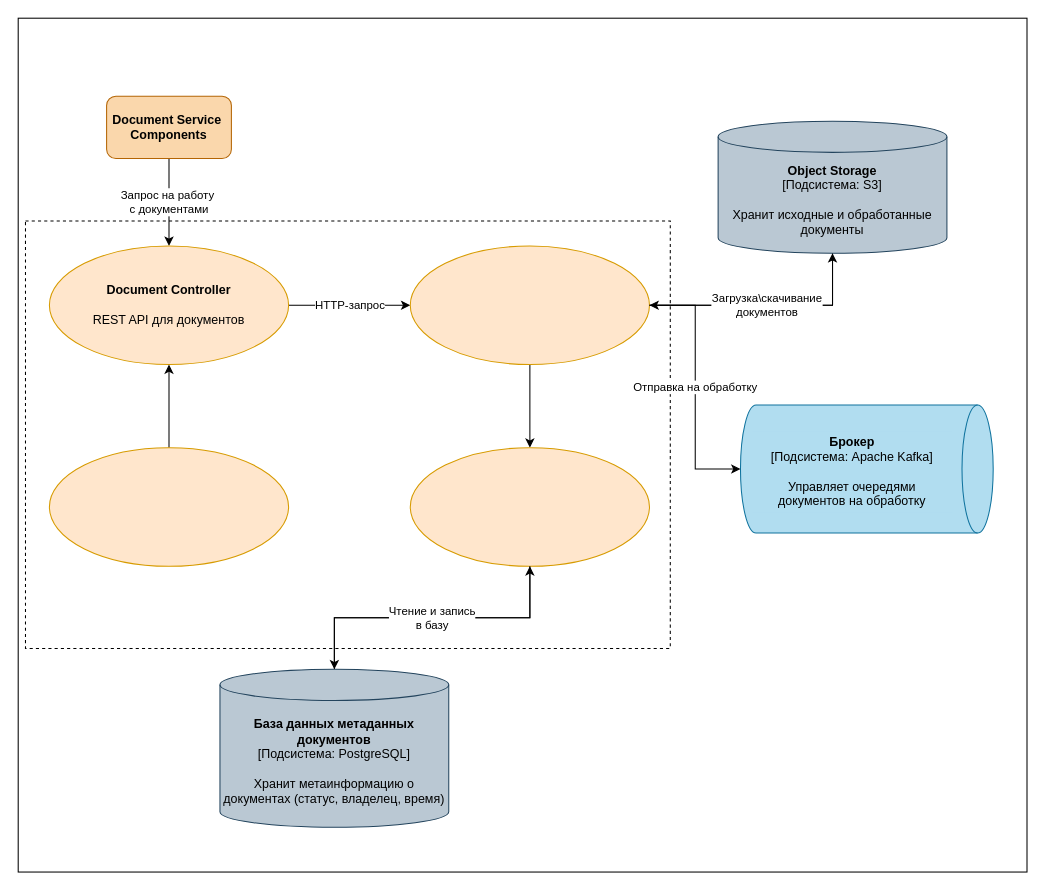
This 1045x890 diagram has some shape labels left out. The shapes that lost their labels are listed below. From the top down, each one's centre as x and y in pixels, then its label:
At (x=529, y=305): "Document Service Управление документами".
At (x=168, y=506): "JWT Filter Проверка JWT токенов".
At (x=529, y=506): "Document Repository Доступ к метаданным документов".
